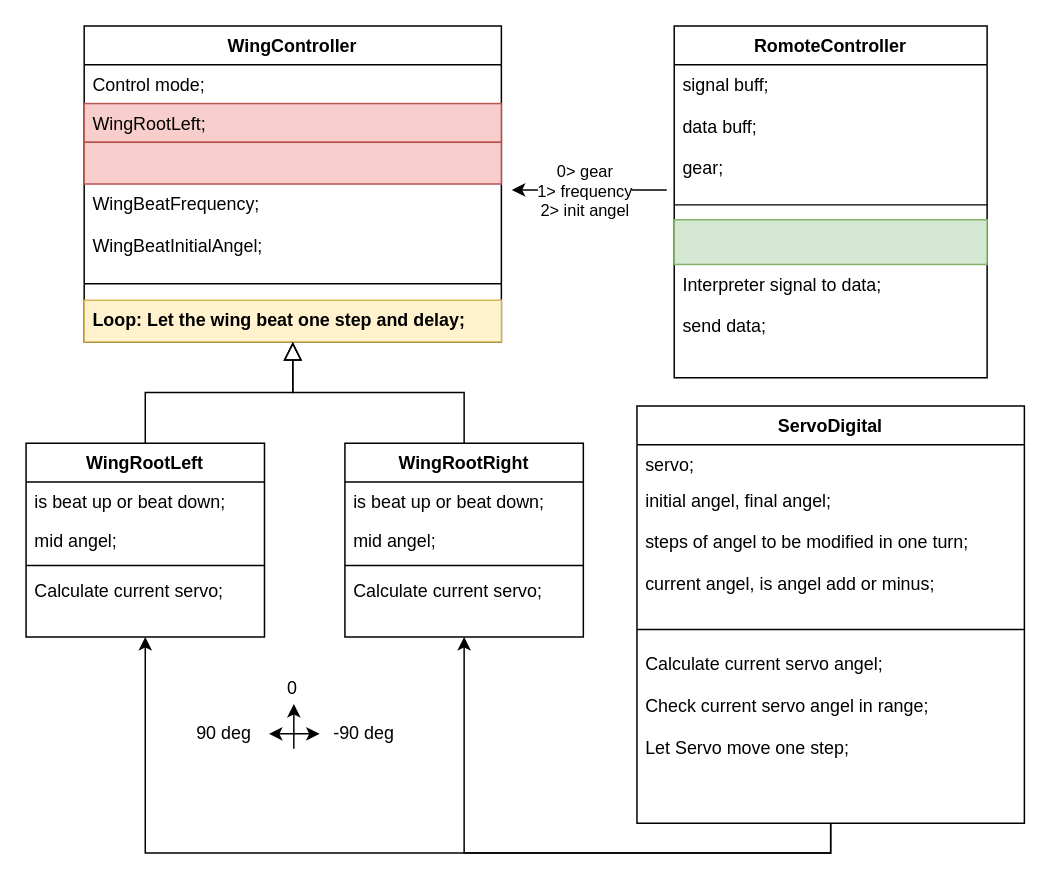
This 1050x891 diagram has some shape labels left out. Each missing label, with the centre of its shape:
"Port trigger interrupt: read signal;" goes at point 830,241.
"WingRootRight;" goes at point 292,162.
